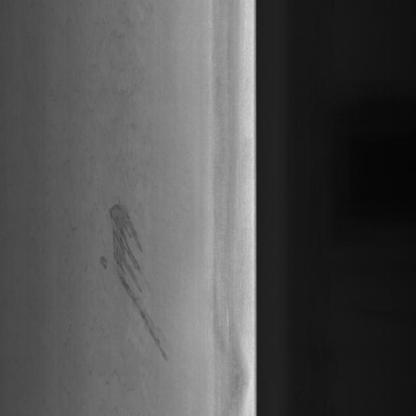water_spot: (91, 186, 171, 368)
